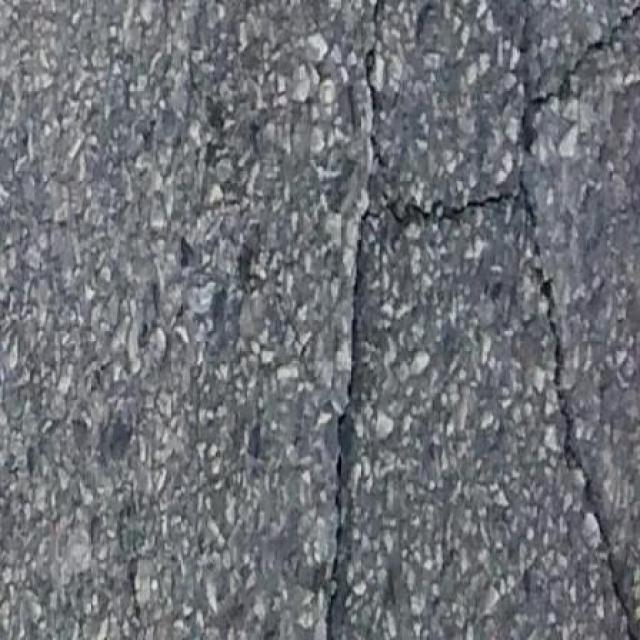Crack: (328, 0, 636, 639), (362, 0, 379, 169), (516, 0, 526, 56)
